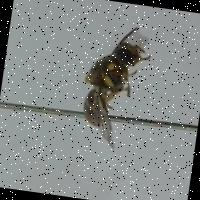Oriental-fruit-fly: (74, 17, 157, 152)
